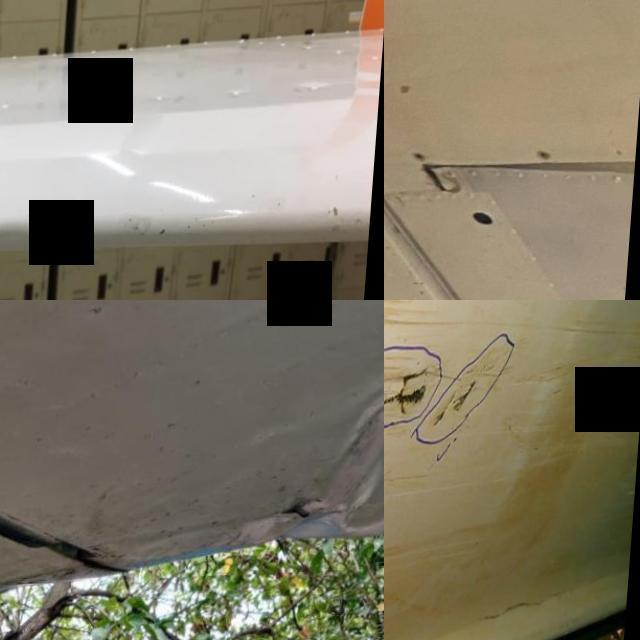Crack: (0, 171, 378, 277), (434, 381, 483, 434), (384, 374, 433, 414), (302, 492, 340, 518)
Dent: (316, 300, 384, 509), (350, 465, 384, 571)
Missing_Fastener: (532, 152, 565, 172), (416, 155, 430, 167)
